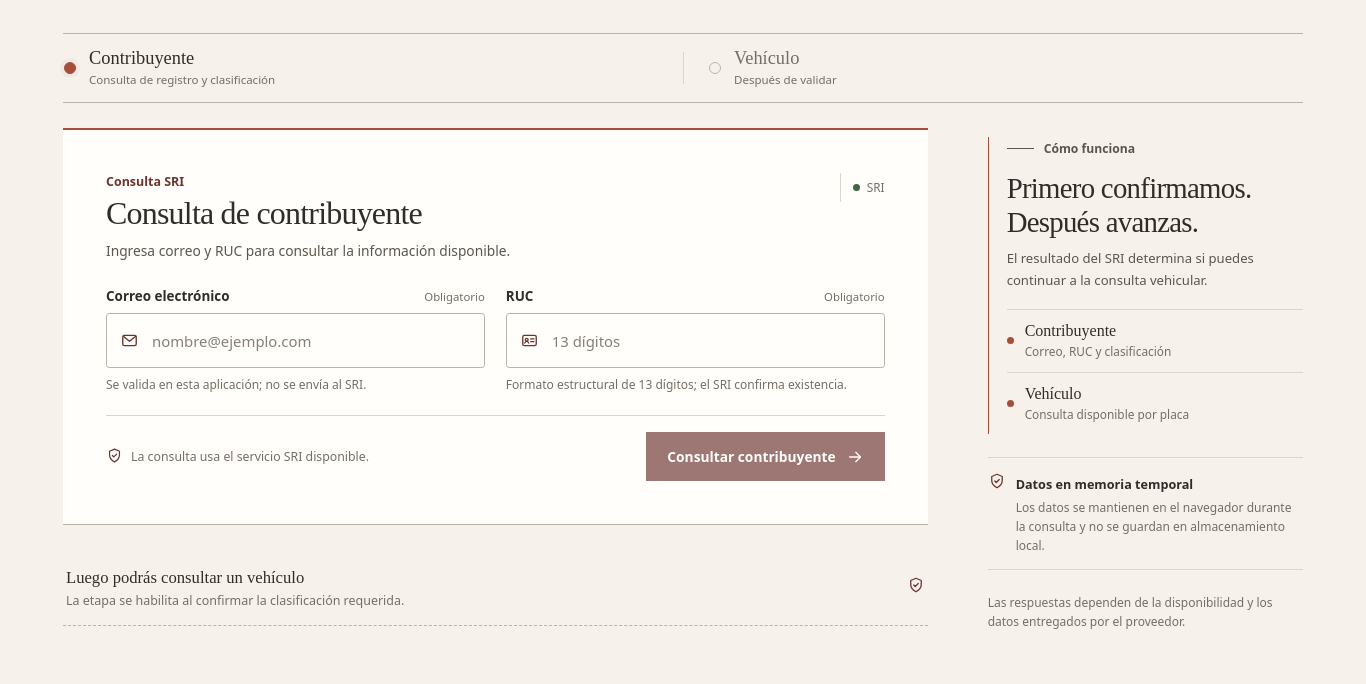
Portal de consultas › envía el contrato real y presenta solo la clasificación natural confirmada
(page scrolled)
Type "usuario@ejemplo.com" into the field labelled "Correo electrónico" at (295, 341), box [106,314,485,368]
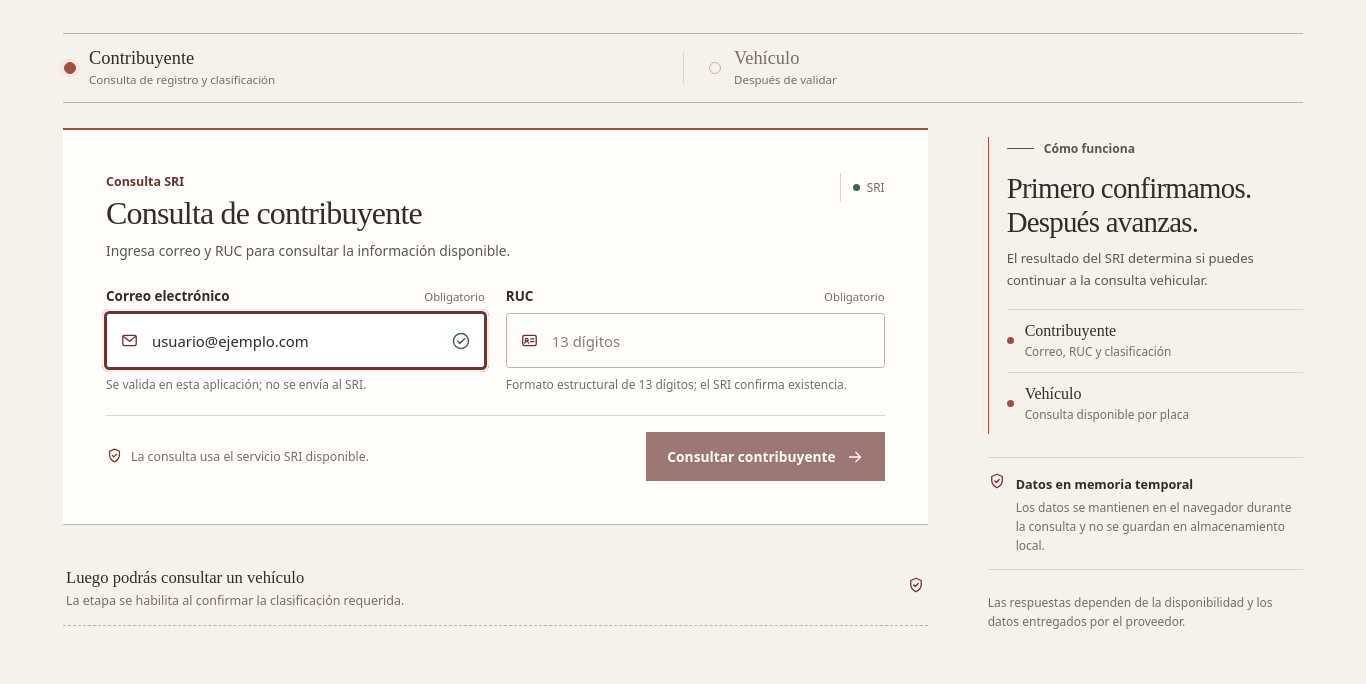
Type "0000000000000" into the field labelled "RUC" at (695, 341), box [506,314,885,368]
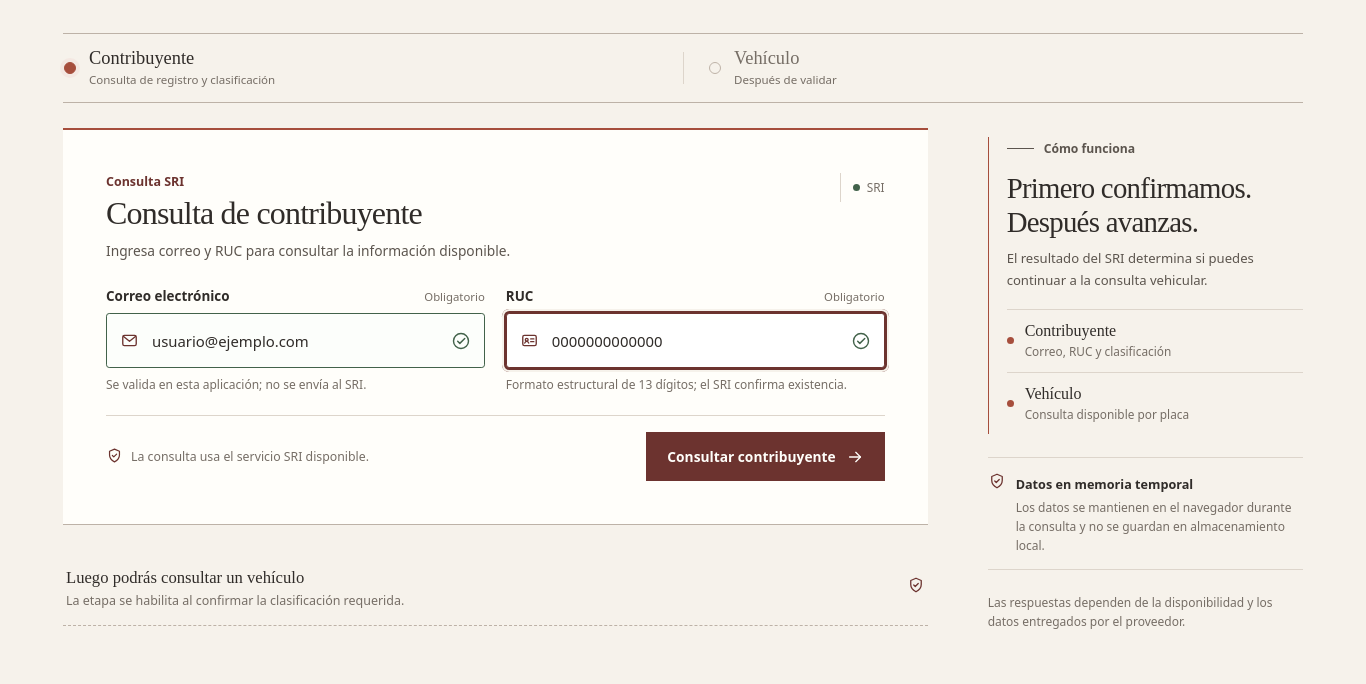
Click the button "Consultar contribuyente" at (765, 457), box [646,432,885,482]
(page scrolled)
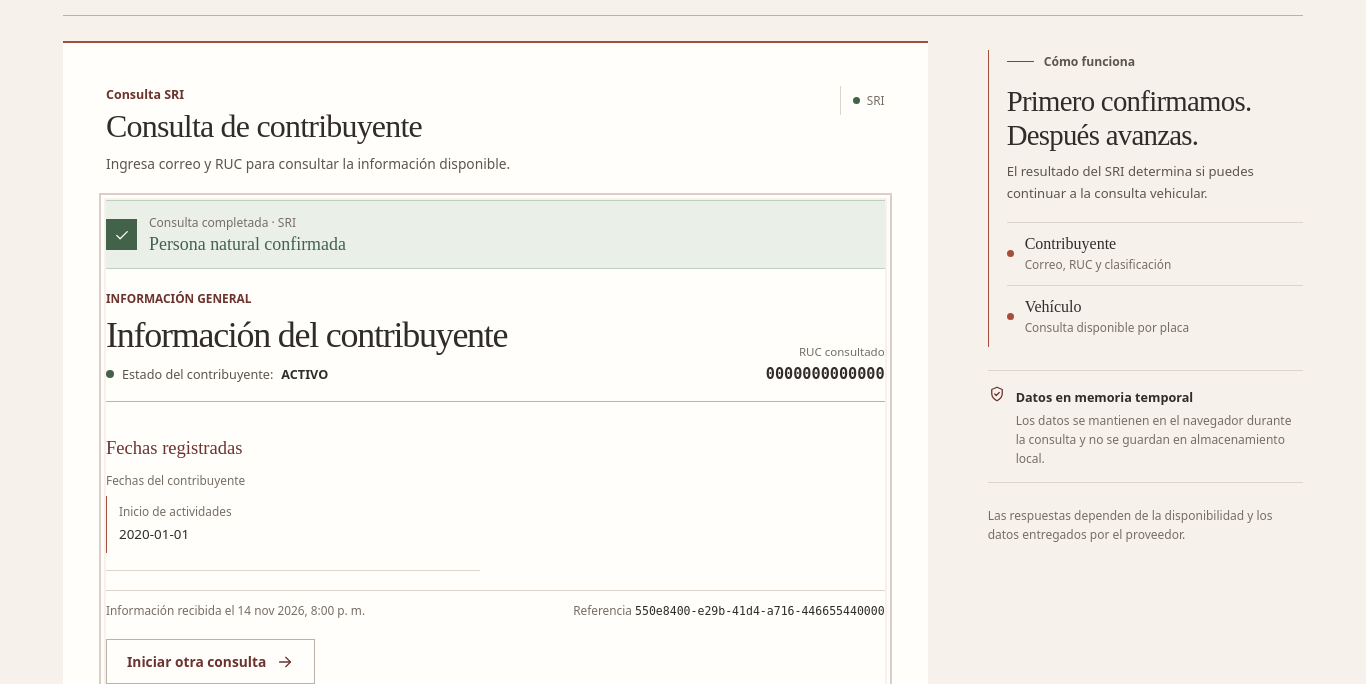
Expected: the text "Persona natural confirmada" is shown, [149,234,346,256]
Expected: the text "ACTIVO" is shown, [281,365,328,383]
Expected: the text "2020-01-01" is shown, [119,525,189,543]
